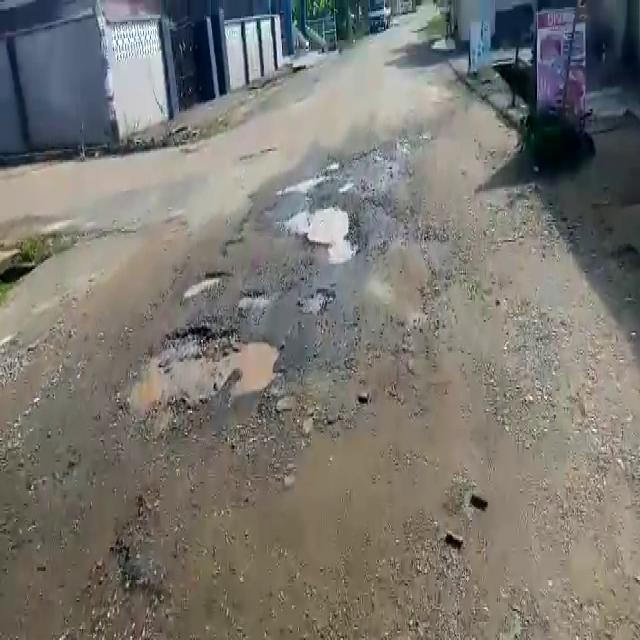Pothole: (117, 320, 286, 411), (278, 200, 354, 254), (184, 269, 231, 301), (234, 144, 283, 166), (294, 291, 330, 315), (238, 289, 276, 310)
